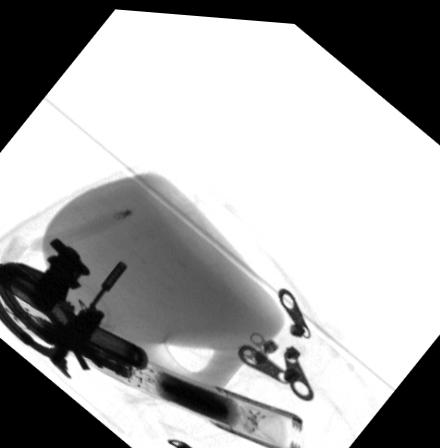Baton: (15, 300, 300, 448)
Bullet: (6, 286, 149, 366)
Gun: (43, 258, 126, 377)
HandCuffs: (0, 236, 88, 356)
